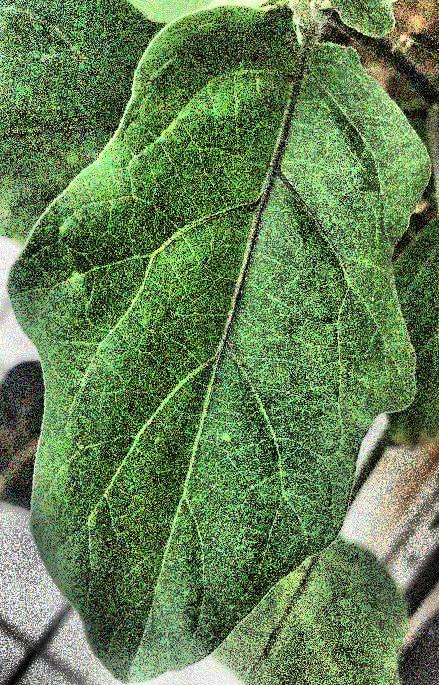HEALTHY: (1, 1, 439, 685)
